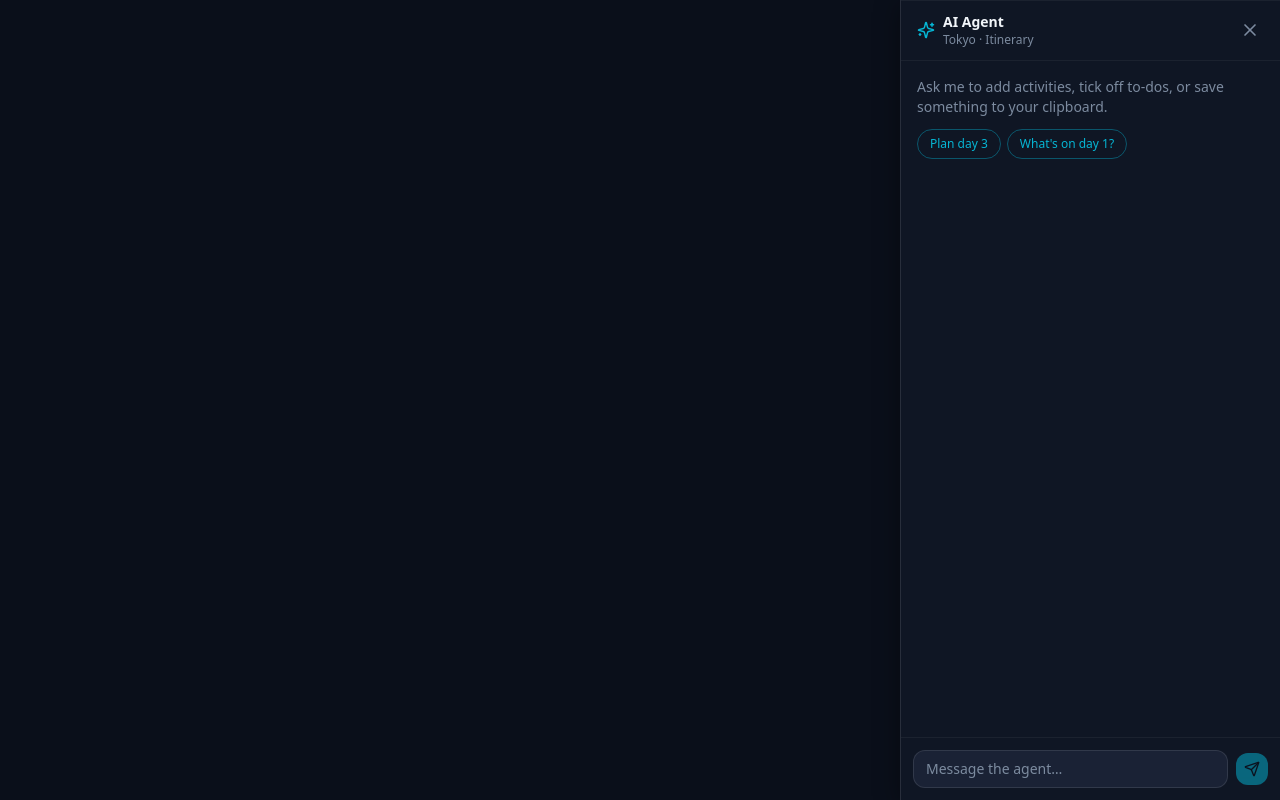
AI agent chat — actions › logs the user message to the session conversation
Type "Hello there" into the field with test id "agent-input" at (1070, 769), box [913, 750, 1228, 788]
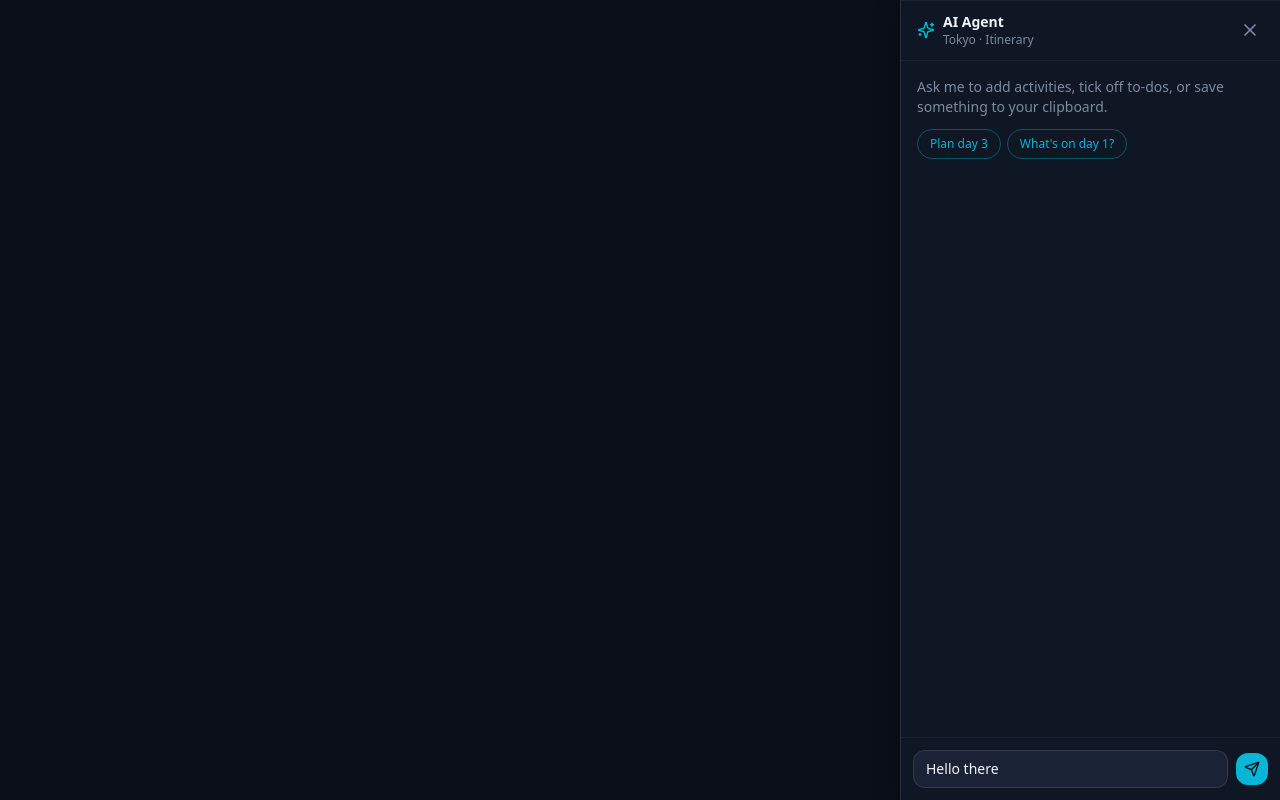
Click the button with test id "agent-send" at (1252, 769), box [1236, 753, 1268, 785]
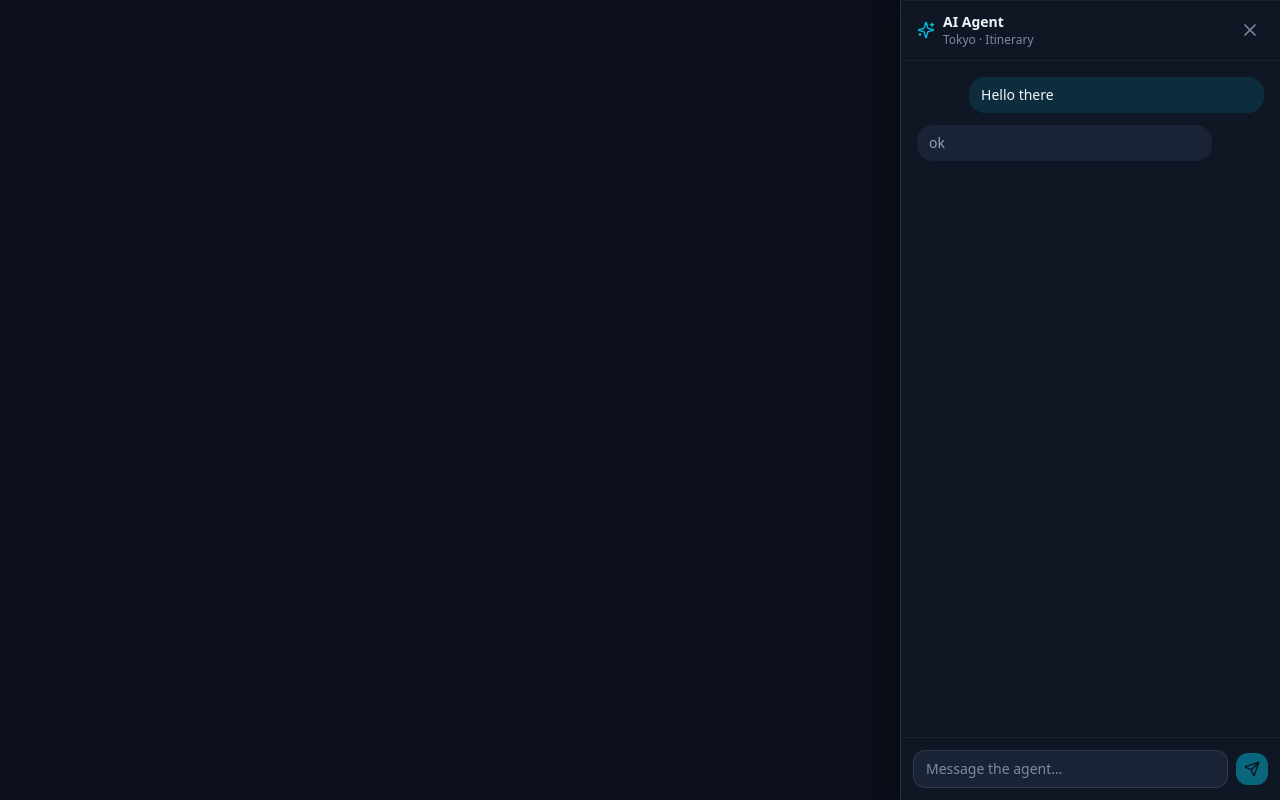
Now the text "Hello there" is shown, box [981, 85, 1054, 104]
